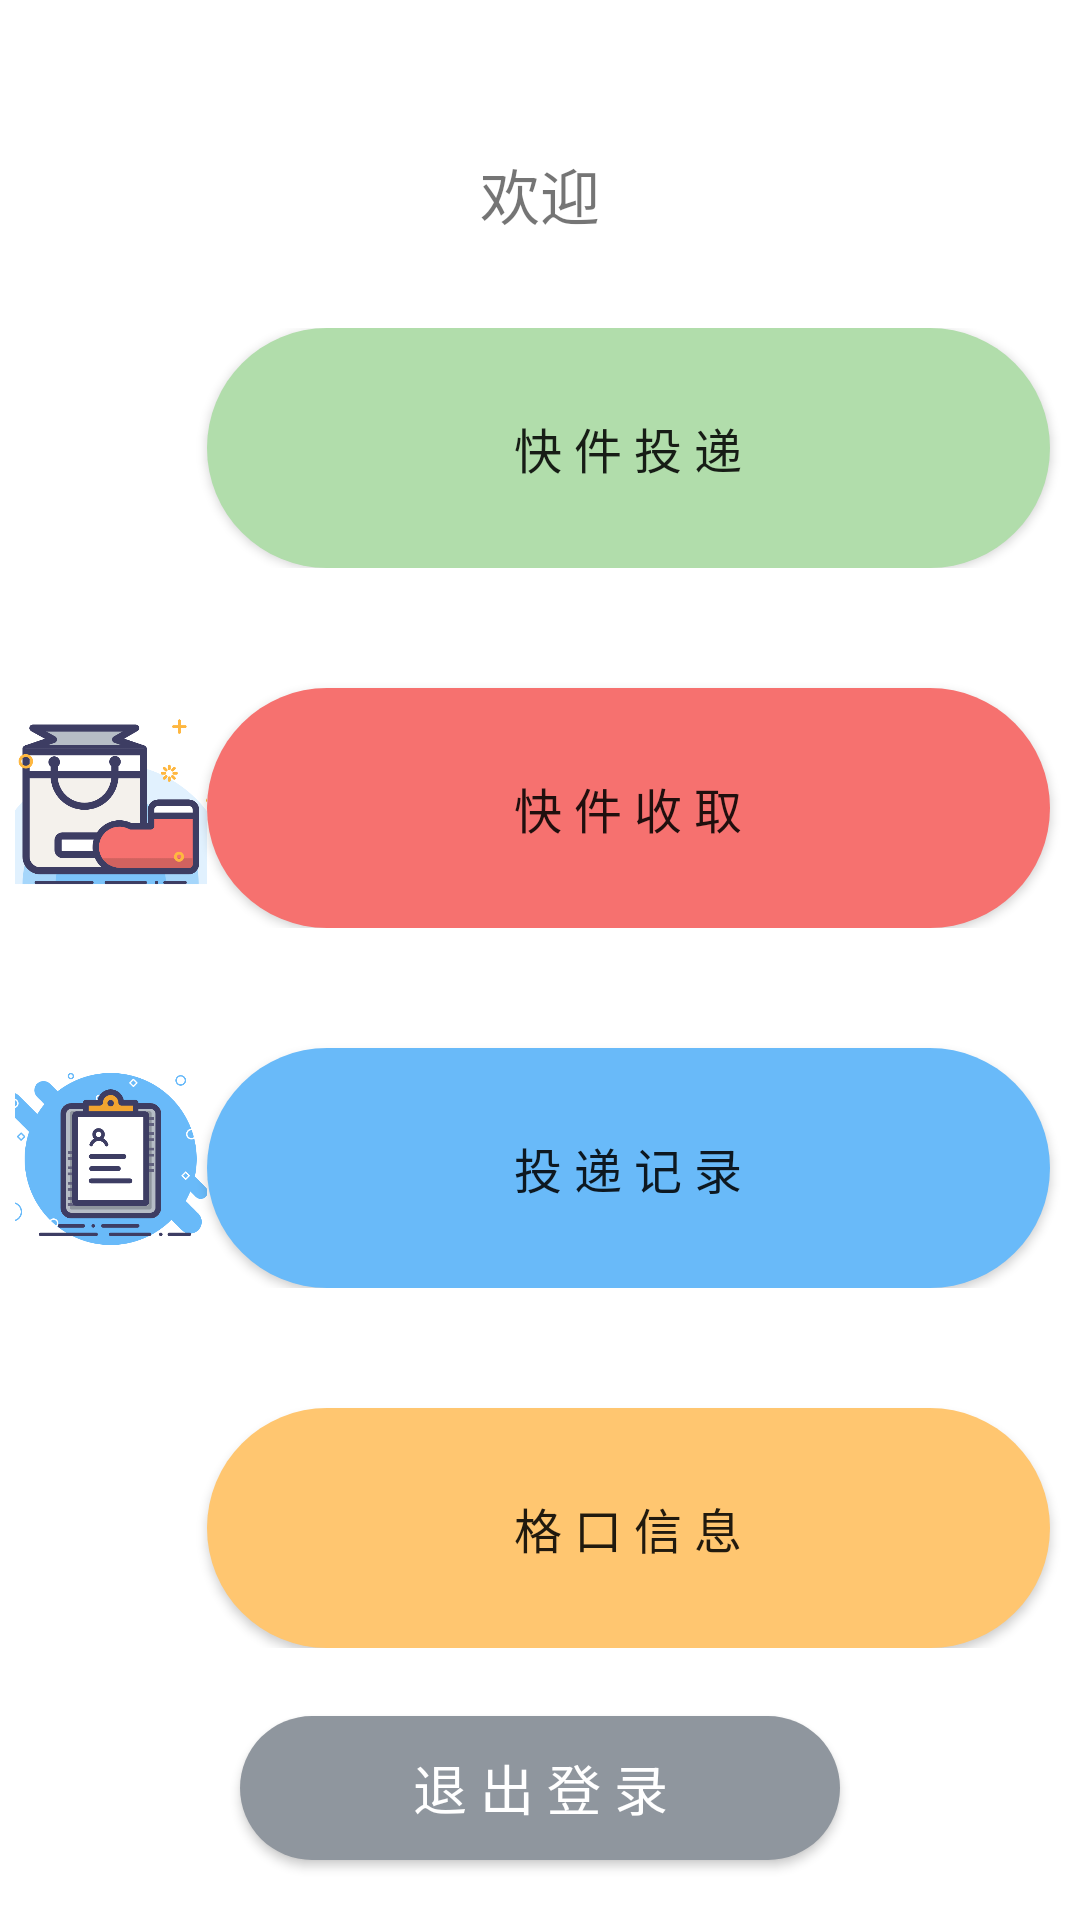

Screen size 1080px×1920px. Icon name, then its center in pixels as point (x, y):
get: point (111, 801)
record: point (111, 1159)
